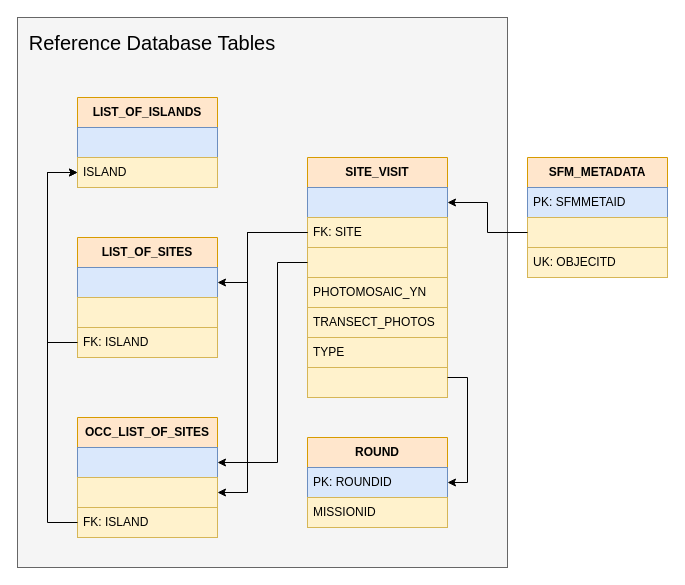
This 685x585 diagram has some shape labels left out. The centre of each missing label's shape, as x and y in pixels:
"DEPTH_BIN" goes at (147,312).
"FK: OCC_SITEID" goes at (377,262).
"FK: REA_SITE" goes at (147,492).
"FK: SITEVISITID" goes at (597,232).
"PK: SITEVISITID" goes at (377,202).
"ROUNDID" goes at (377,382).
"UK: ISLANDCODE" goes at (147,142).
"UK: OCC_SITEID" goes at (147,462).
"UK: SITE" goes at (147,282).
